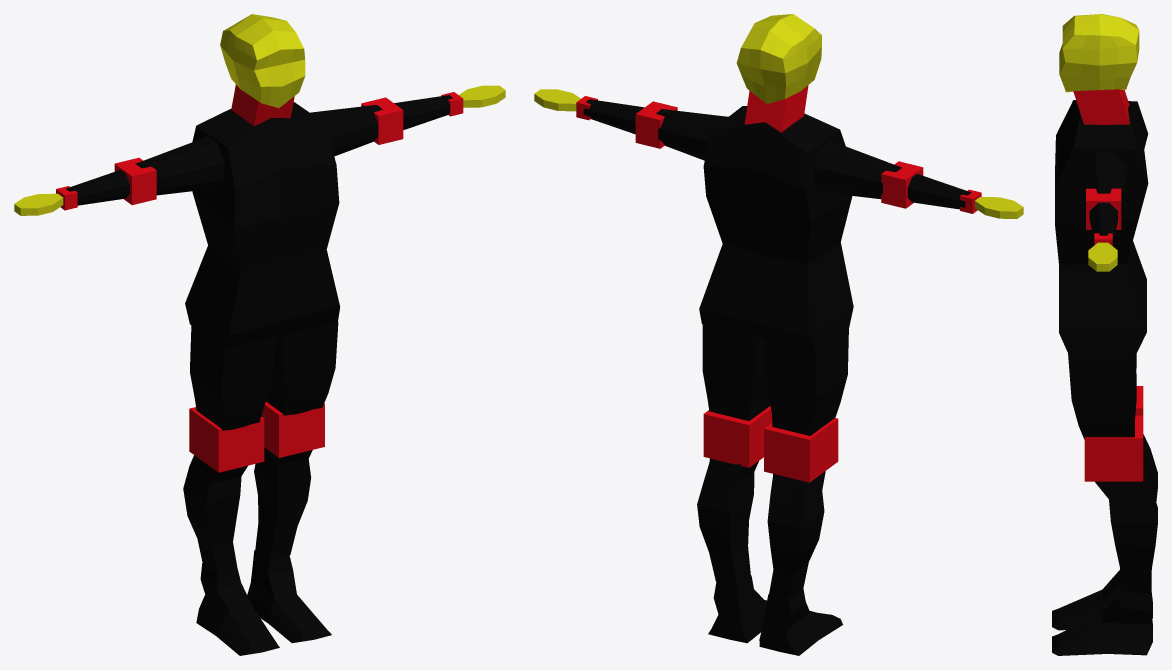
File: mob.glb
The picture shows the model from 3 angles, left to right: view 1: azimuth 30°, elevation 25°; view 2: azimuth 150°, elevation 25°; view 3: azimuth 270°, elevation 25°; orthographic projection.
Visible parts, largest first — view 1: Cube.001, Cube.003, Cube, Cube.004, Cube.007, Cube.008, Cube.009, Cube.010, Cube.005, Cube.012, Cube.006, Cube.011 (+7 smaller); view 2: Cube.001, Cube.003, Cube, Cube.008, Cube.007, Cube.004, Cube.005, Cube.009, Cube.012, Cube.006, Cube.010, Cube.011 (+7 smaller); view 3: Cube.001, Cube, Cube.004, Cube.008, Cube.010, Cube.006, Cube.011, Cube.002, Cube.009, Cube.013, Cube.014, Cube.019 (+3 smaller).
Part boxes in pixels (x1=…): Cube.001: x1=185, y1=102, x2=339, y2=349; Cube.003: x1=190, y1=325, x2=276, y2=430; Cube: x1=220, y1=14, x2=305, y2=107; Cube.004: x1=266, y1=322, x2=338, y2=415; Cube.007: x1=183, y1=455, x2=247, y2=572; Cube.008: x1=254, y1=447, x2=312, y2=560; Cube.009: x1=196, y1=563, x2=279, y2=655; Cube.010: x1=247, y1=550, x2=331, y2=643; Cube.005: x1=189, y1=407, x2=264, y2=472; Cube.012: x1=135, y1=136, x2=224, y2=195; Cube.006: x1=261, y1=401, x2=324, y2=457; Cube.011: x1=310, y1=105, x2=382, y2=156; Cube.001: x1=699, y1=106, x2=853, y2=350; Cube.003: x1=764, y1=328, x2=848, y2=435; Cube: x1=736, y1=14, x2=821, y2=103; Cube.008: x1=697, y1=458, x2=758, y2=586; Cube.007: x1=767, y1=471, x2=825, y2=599; Cube.004: x1=702, y1=324, x2=770, y2=420; Cube.005: x1=764, y1=418, x2=838, y2=482; Cube.009: x1=759, y1=588, x2=842, y2=655; Cube.012: x1=813, y1=140, x2=901, y2=199; Cube.006: x1=703, y1=406, x2=772, y2=467; Cube.010: x1=708, y1=575, x2=766, y2=643; Cube.011: x1=656, y1=109, x2=728, y2=160; Cube.001: x1=1055, y1=100, x2=1148, y2=353; Cube: x1=1059, y1=14, x2=1139, y2=92; Cube.004: x1=1068, y1=353, x2=1136, y2=439; Cube.008: x1=1095, y1=462, x2=1157, y2=593; Cube.010: x1=1052, y1=582, x2=1152, y2=655; Cube.006: x1=1084, y1=415, x2=1143, y2=481; Cube.011: x1=1079, y1=152, x2=1128, y2=208; Cube.002: x1=1073, y1=89, x2=1129, y2=124; Cube.009: x1=1052, y1=570, x2=1152, y2=630; Cube.013: x1=1089, y1=202, x2=1117, y2=245; Cube.014: x1=1086, y1=188, x2=1121, y2=229; Cube.019: x1=1088, y1=242, x2=1117, y2=271.
Size of the model in its own units: 2.43 by 2.94 by 0.4562.
